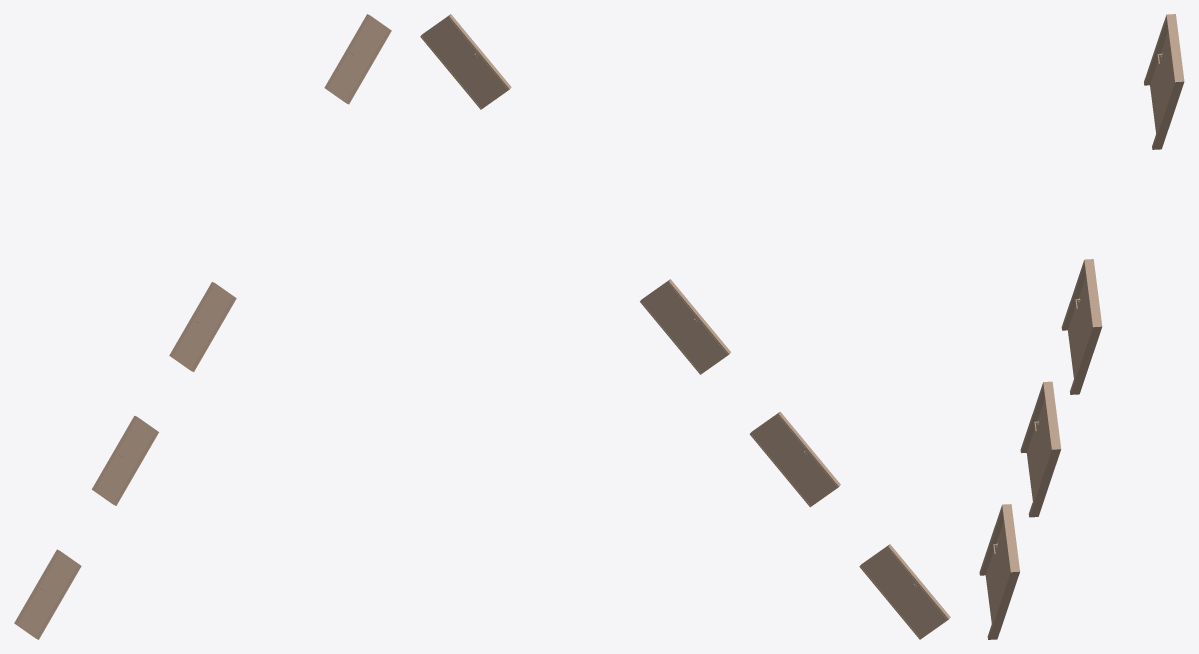
3 renders of one model, left to right at view 1: azimuth 30°, elevation 25°; view 2: azimuth 150°, elevation 25°; view 3: azimuth 270°, elevation 25°, orthographic. The views are drawn at different scales.
Parts seen in each view (by area): view 1: mesh; view 2: mesh; view 3: mesh.
Boxes of the visible parts, x1,y1,x2,y2 form: mesh: (14,14,391,639); mesh: (420,14,950,639); mesh: (979,14,1184,639).
Size of the model in its own units: 11.69 by 13.14 by 2.47.
